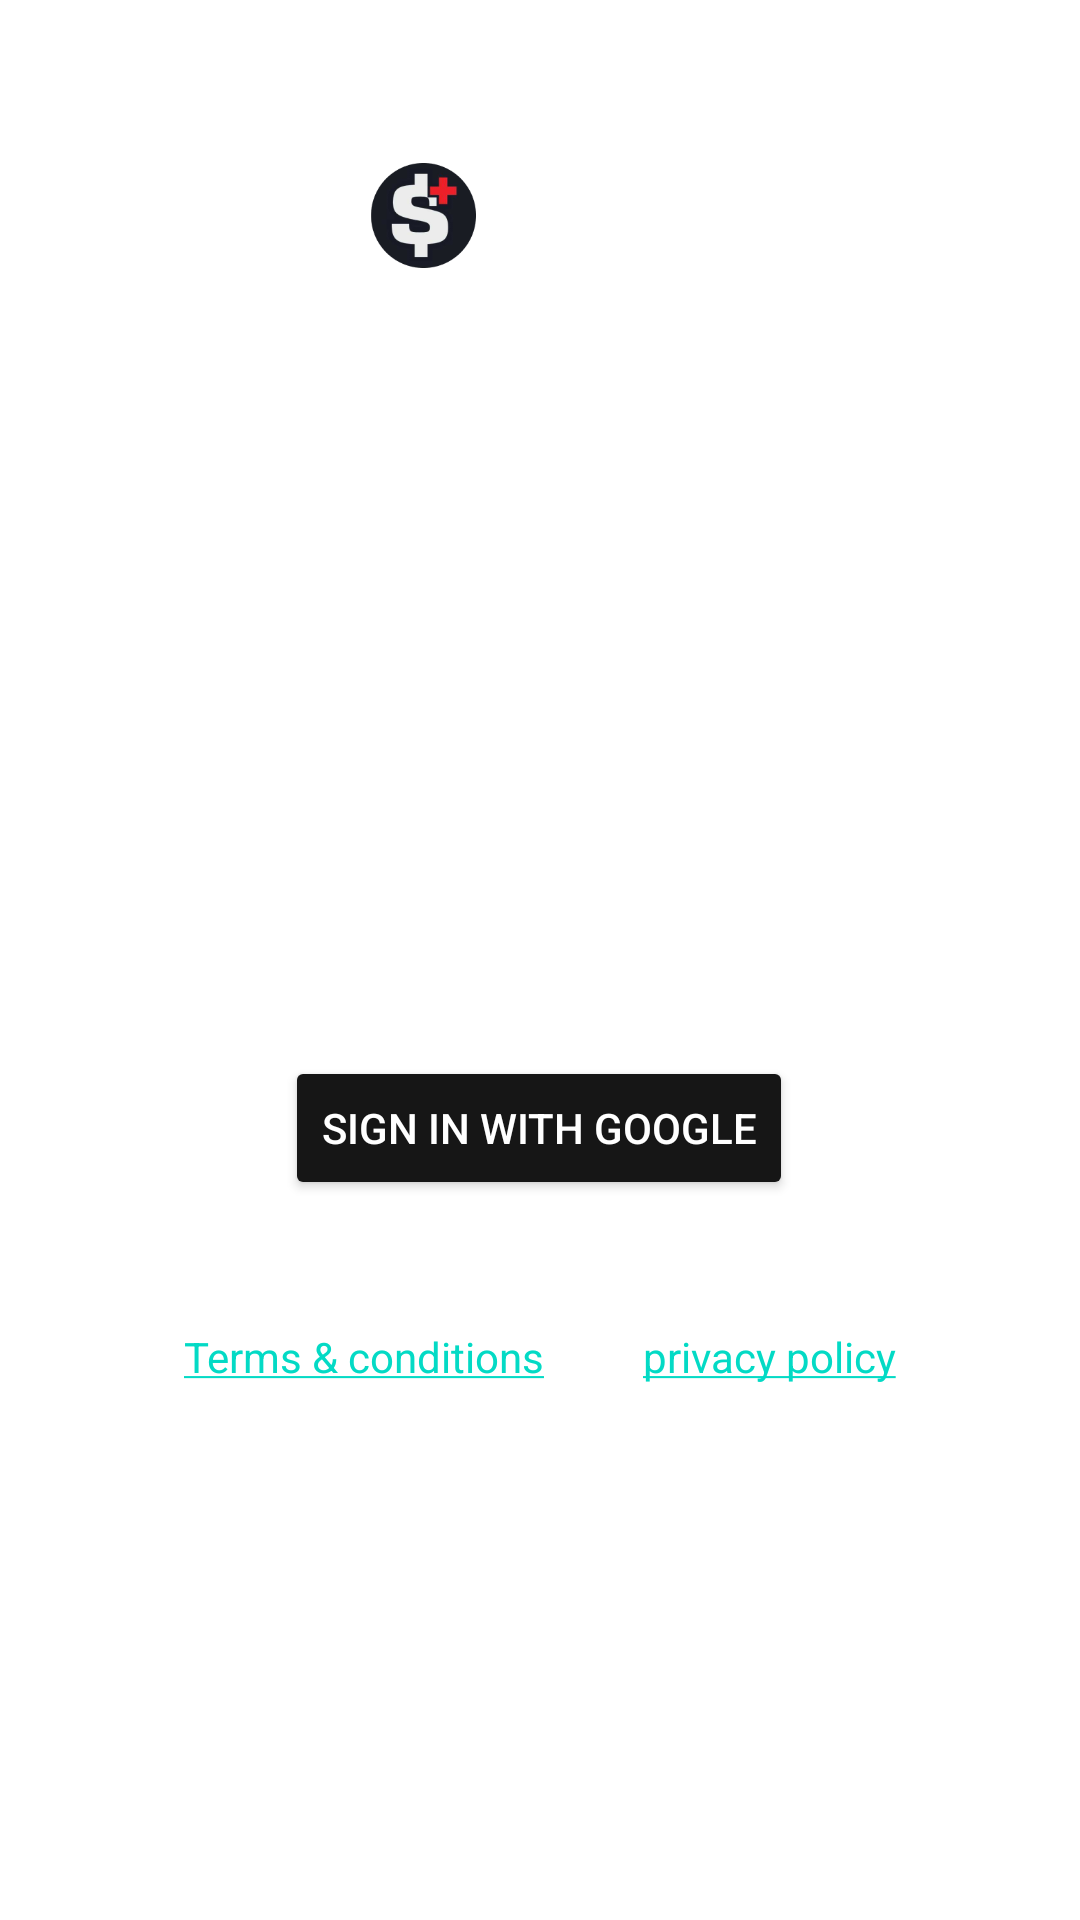

Where to tap for icons on this 1080x1920 app screen, as [x,y]:
dollar: [423,215]
